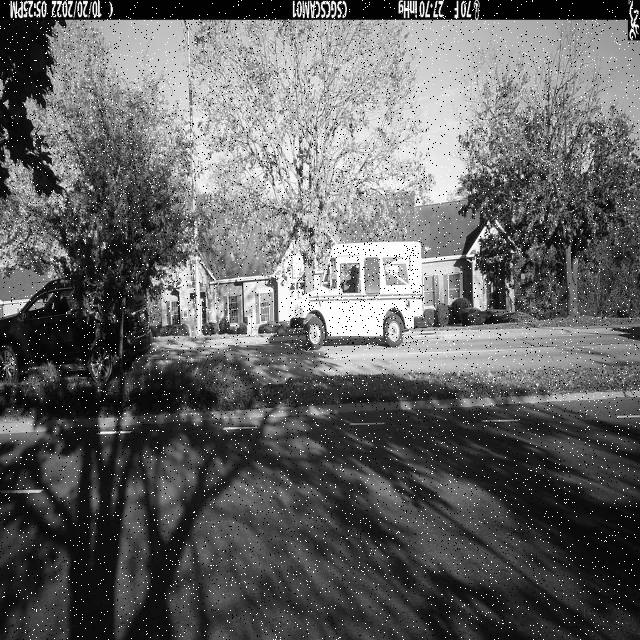Van: (289, 240, 427, 350)
